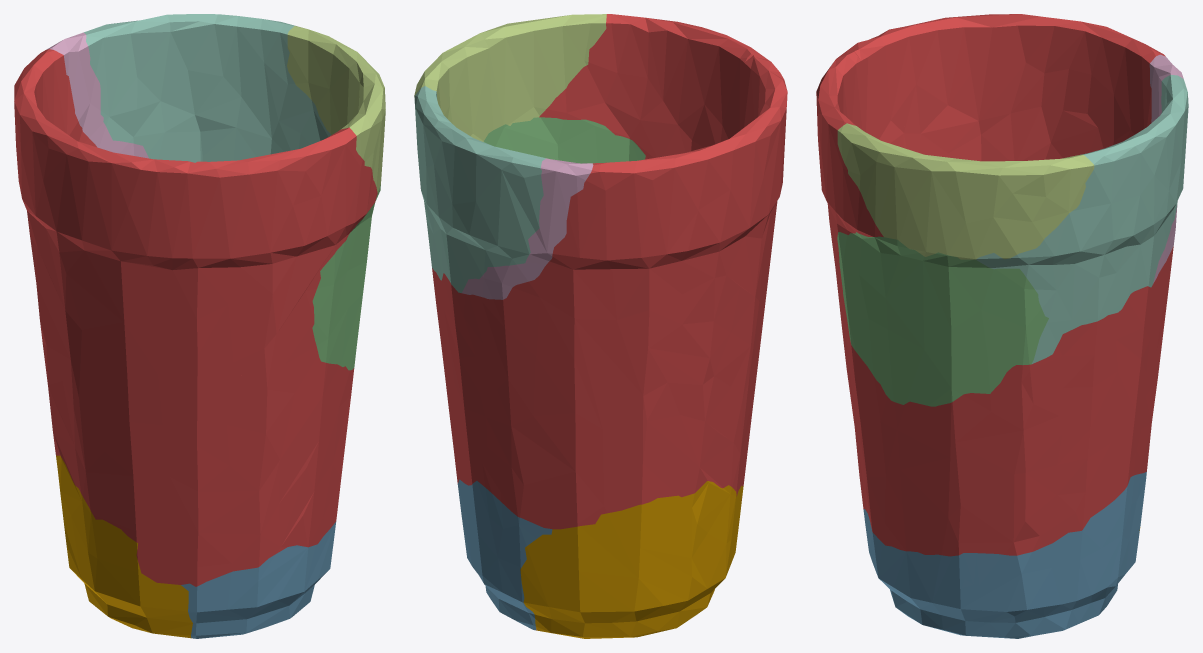
File: mode_10_8pcs.glb
3 views of the same model, side by side, from view 1: azimuth 30°, elevation 25°; view 2: azimuth 150°, elevation 25°; view 3: azimuth 270°, elevation 25° (orthographic).
Visible parts, largest first — view 1: piece_1.obj, piece_4.obj, piece_0.obj, piece_2.obj, piece_5.obj, piece_3.obj, piece_6.obj; view 2: piece_1.obj, piece_0.obj, piece_4.obj, piece_5.obj, piece_2.obj, piece_6.obj, piece_3.obj; view 3: piece_1.obj, piece_3.obj, piece_4.obj, piece_2.obj, piece_5.obj, piece_6.obj.
Part boxes in pixels (x1,y1,x2,y2): piece_1.obj: (14,49,377,586); piece_4.obj: (84,14,330,162); piece_0.obj: (56,455,192,638); piece_2.obj: (181,521,336,638); piece_5.obj: (287,26,385,192); piece_3.obj: (312,184,380,370); piece_6.obj: (46,32,148,158); piece_1.obj: (432,14,787,529); piece_0.obj: (520,481,743,638); piece_4.obj: (414,86,545,292); piece_5.obj: (414,14,606,141); piece_2.obj: (457,479,552,630); piece_6.obj: (462,158,593,299); piece_3.obj: (483,117,645,163); piece_1.obj: (816,14,1173,556); piece_3.obj: (837,232,1048,406); piece_4.obj: (976,74,1188,363); piece_2.obj: (863,471,1146,638); piece_5.obj: (837,123,1094,259); piece_6.obj: (1149,54,1183,283).
Bounding box in the file's own units: 0.6667 × 1 × 0.6655.
